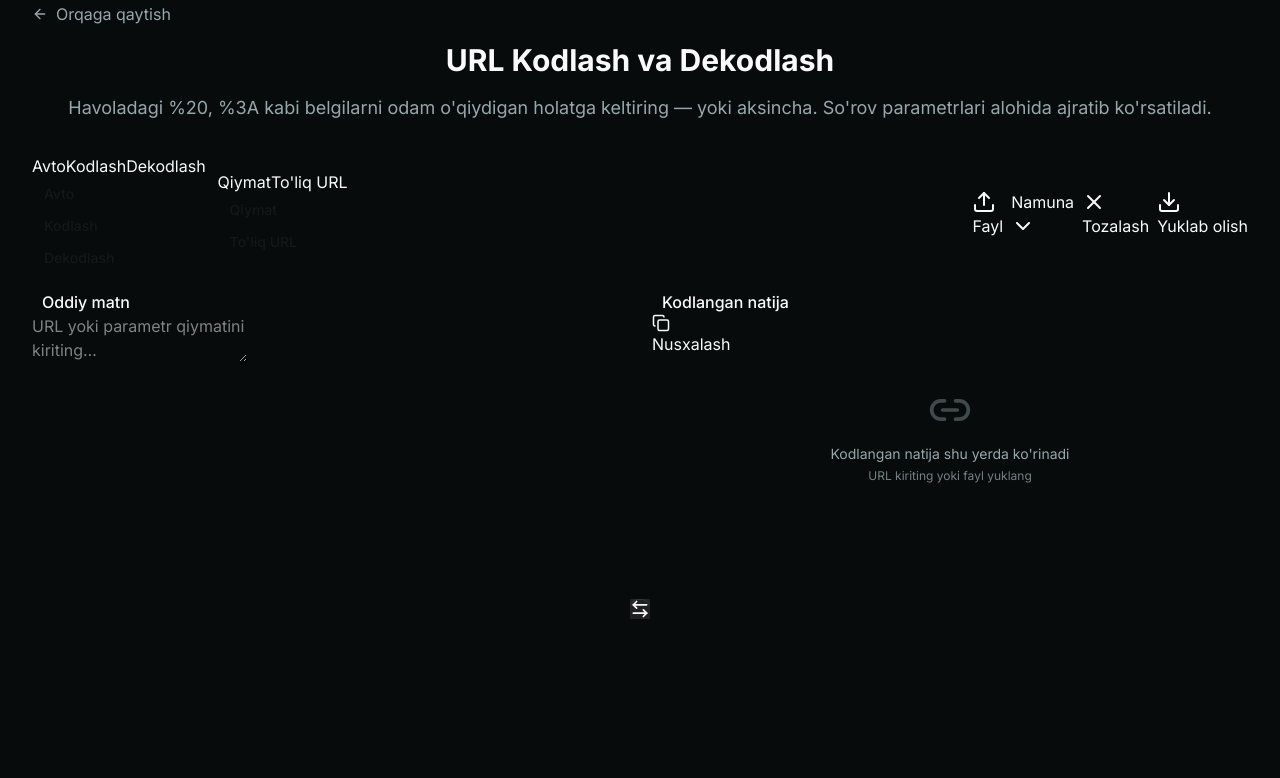
Test case: saying what happened › uses the right sentence for a no-op while ENCODING
The width and height of the screenshot is (1280, 778).
Type "hello" into the text box labelled "URL yoki parametr qiymatini kiriting…" at (140, 338), box [32,314,247,362]
(page scrolled)
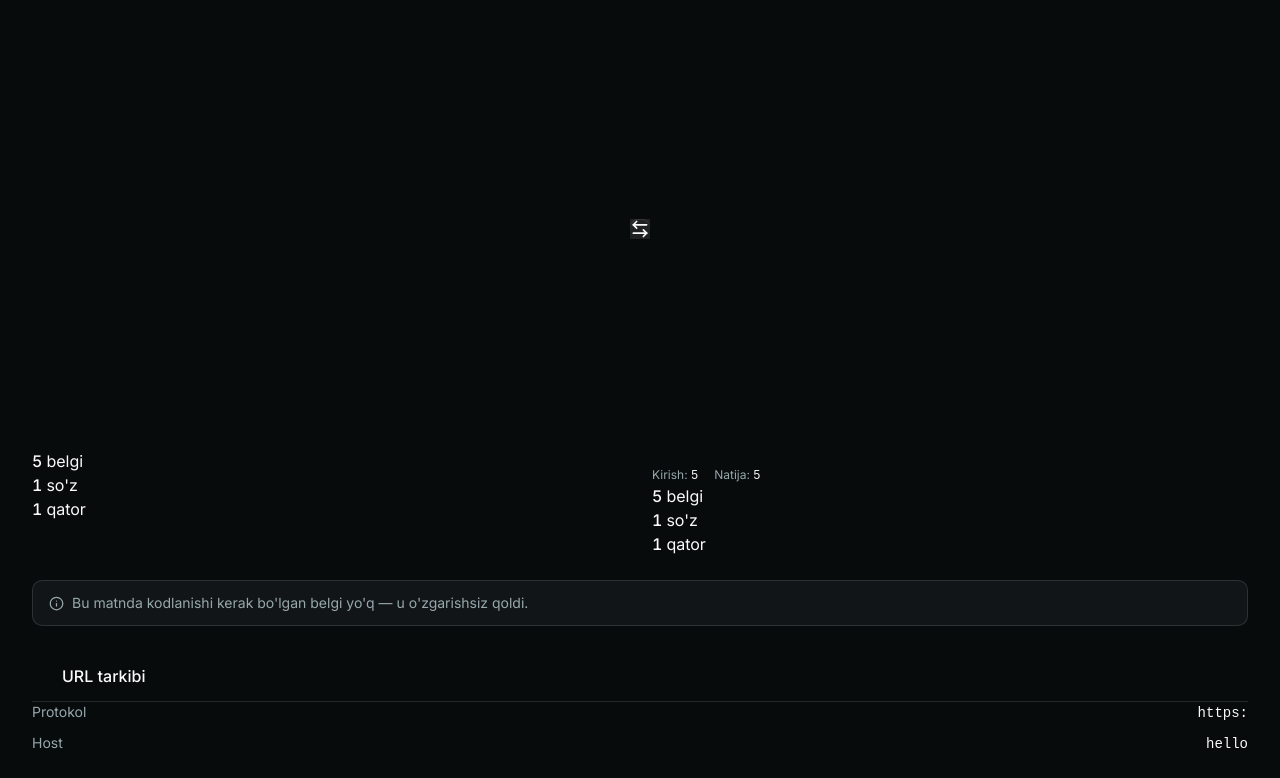
Now the text "kodlanishi kerak bo'lgan belgi yo'q" is shown, box [72,594,528,611]
